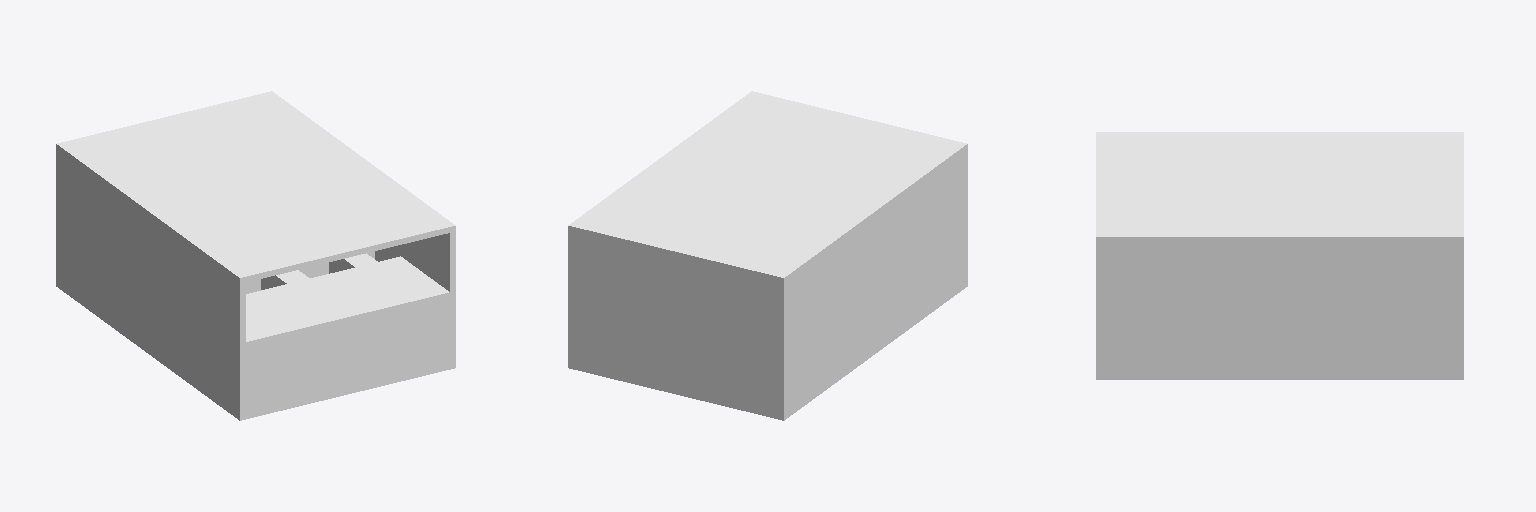
The model's file is lvl_lobby_pitfalls.obj.
3 renders of one model, left to right at view 1: azimuth 30°, elevation 25°; view 2: azimuth 150°, elevation 25°; view 3: azimuth 270°, elevation 25°, orthographic.
Parts seen in each view (by area): view 1: object 1; view 2: object 1; view 3: object 1.
Part boxes in pixels (x1,y1,x2,y2): object 1: (56,91,455,420); object 1: (568,91,967,420); object 1: (1096,132,1463,379).
Size of the model in its own units: 3.8 by 2.4 by 5.6.